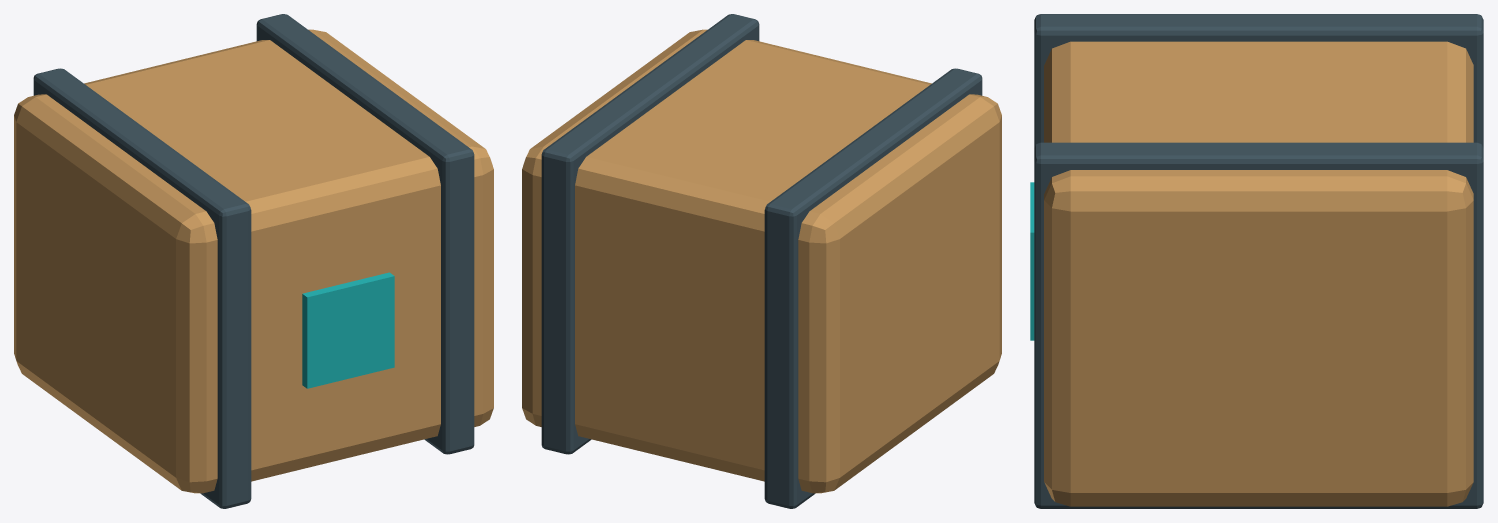
File: supply-crate.glb
3 views of the same model, side by side, from view 1: azimuth 30°, elevation 25°; view 2: azimuth 150°, elevation 25°; view 3: azimuth 270°, elevation 25° (orthographic). The views are drawn at different scales.
Parts seen in each view (by area): view 1: Supplies, Iron strap, Iron strap.001, Supply seal; view 2: Supplies, Iron strap, Iron strap.001; view 3: Supplies, Iron strap.001, Iron strap, Supply seal.
Part boxes in pixels (x1,y1,x2,y2): Supplies: [14, 29, 493, 493]; Iron strap: [33, 68, 251, 508]; Iron strap.001: [256, 14, 474, 454]; Supply seal: [302, 272, 394, 388]; Supplies: [522, 29, 1001, 493]; Iron strap: [764, 68, 982, 508]; Iron strap.001: [541, 14, 759, 454]; Supplies: [1044, 41, 1473, 506]; Iron strap.001: [1034, 142, 1483, 508]; Iron strap: [1034, 14, 1483, 147]; Supply seal: [1030, 182, 1034, 340].
Size of the model in its own units: 0.65 by 0.59 by 0.686.
